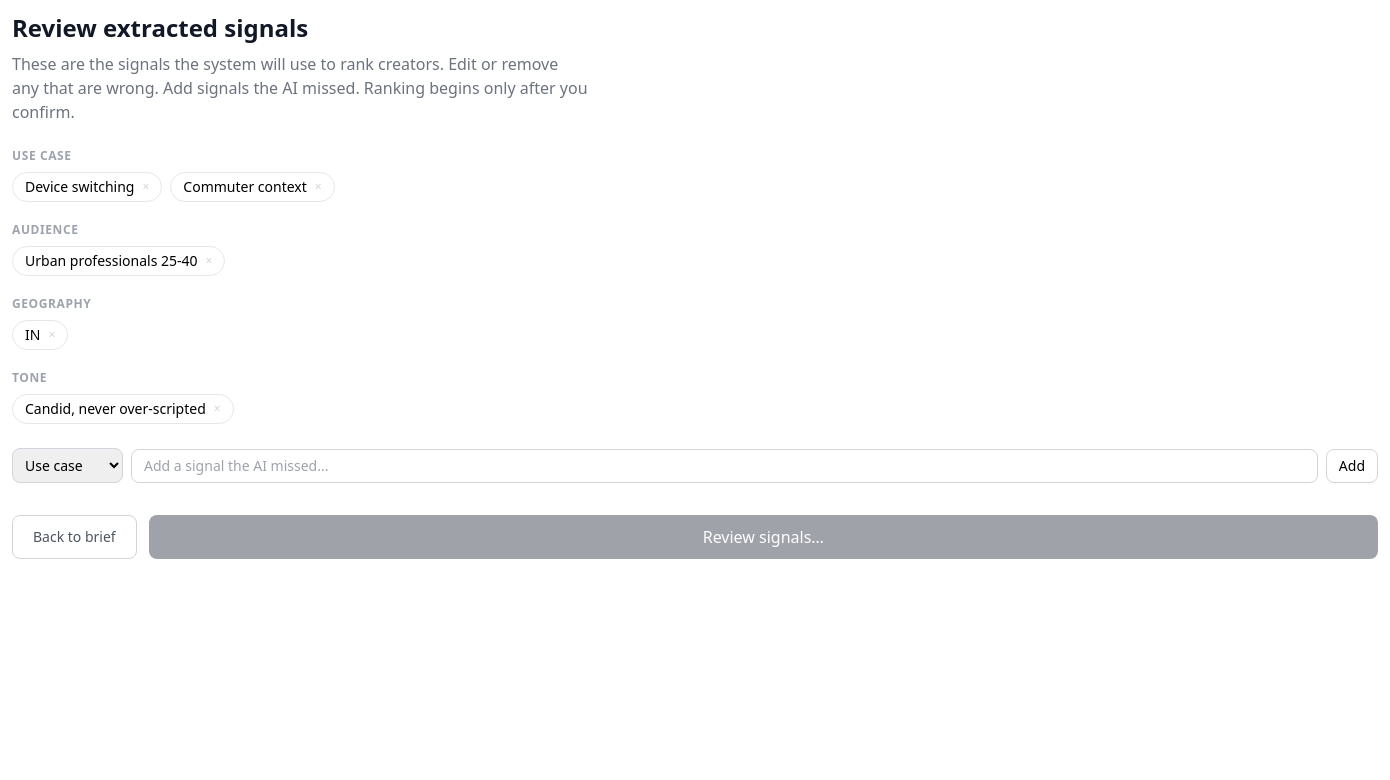
Scenario: SignalConfirmationScreen › allows adding a new marketer chip
Type "Noisy environment use" into the field with placeholder "Add a signal the AI missed..." at (724, 466), box [131, 448, 1318, 482]
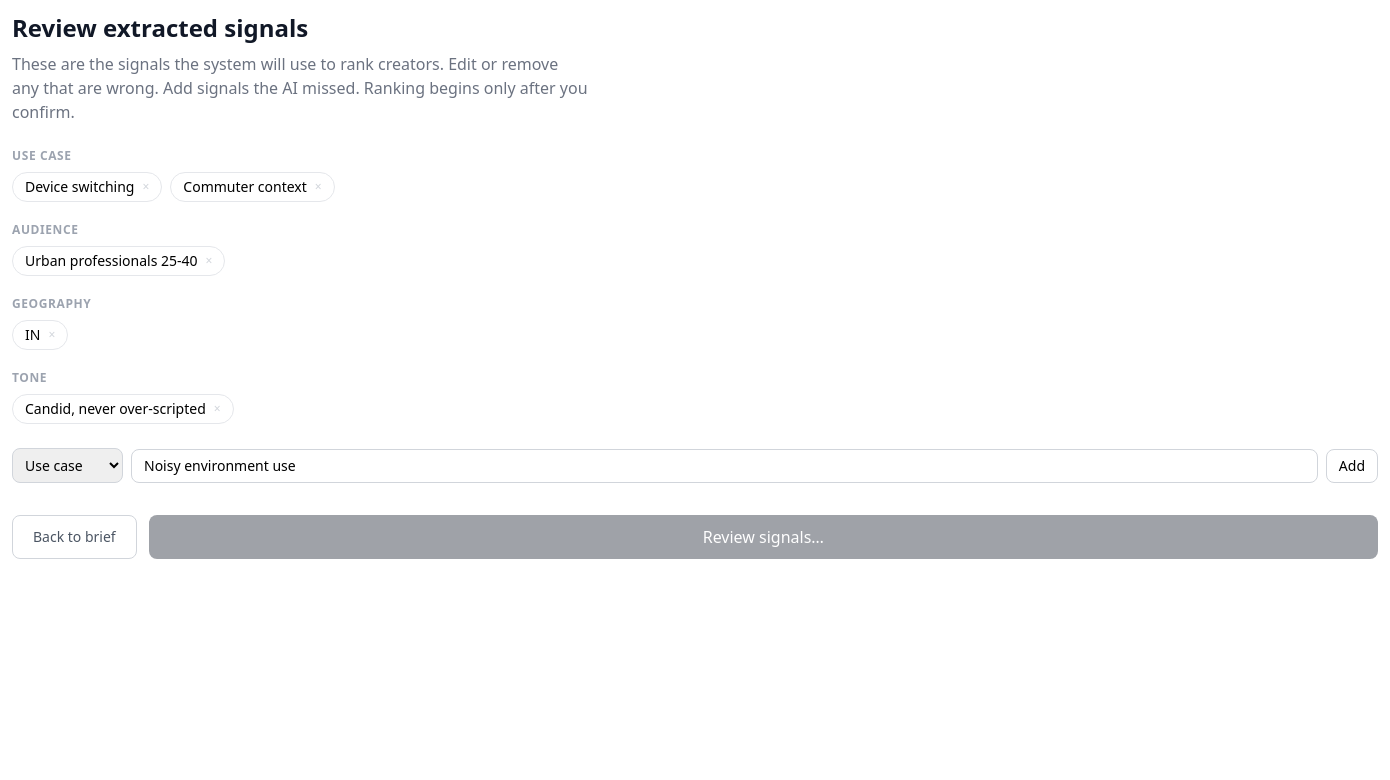
Press Enter in the field with placeholder "Add a signal the AI missed...", box [131, 448, 1318, 482]
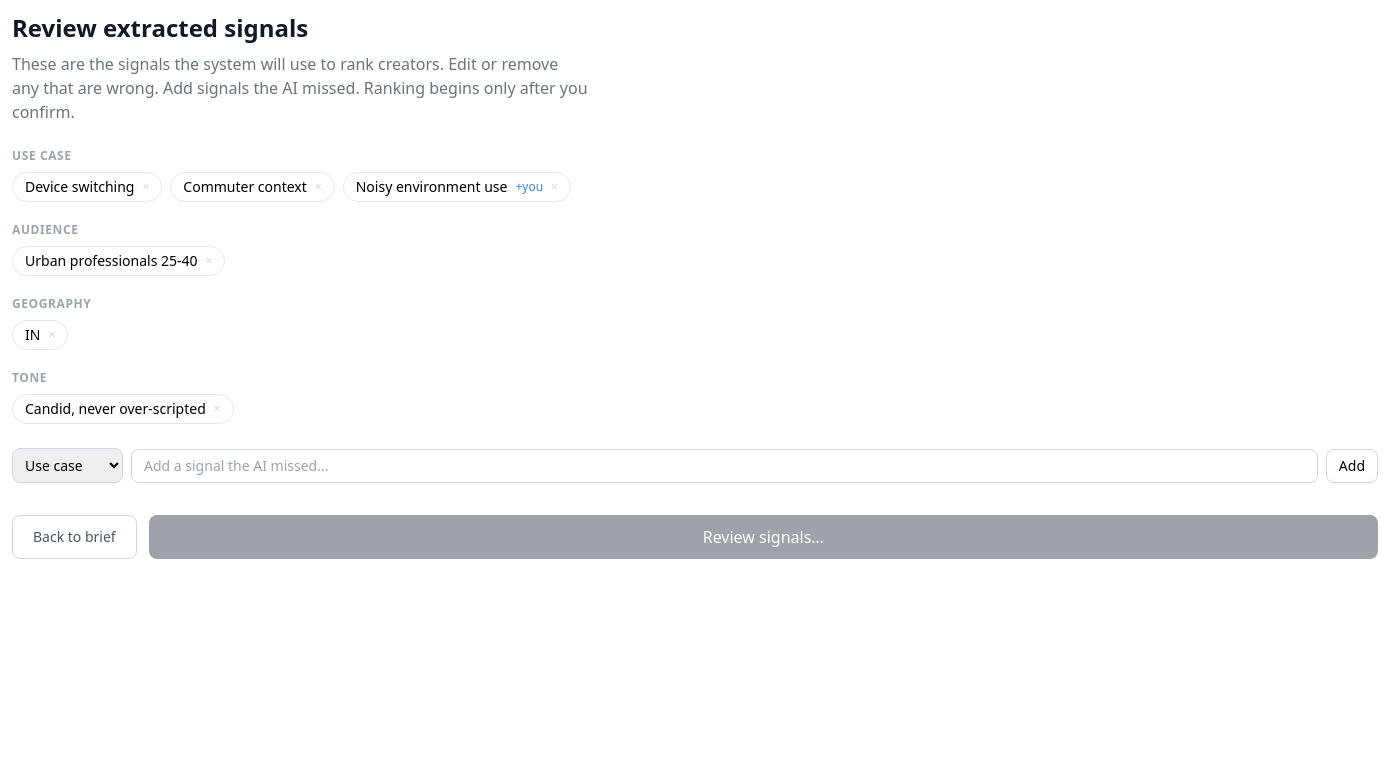
Now the text "Noisy environment use" is shown, box [356, 177, 507, 197]
